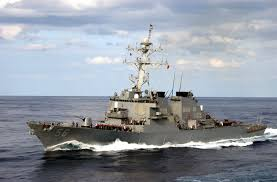tau_muctieu: (36, 48, 267, 148)
